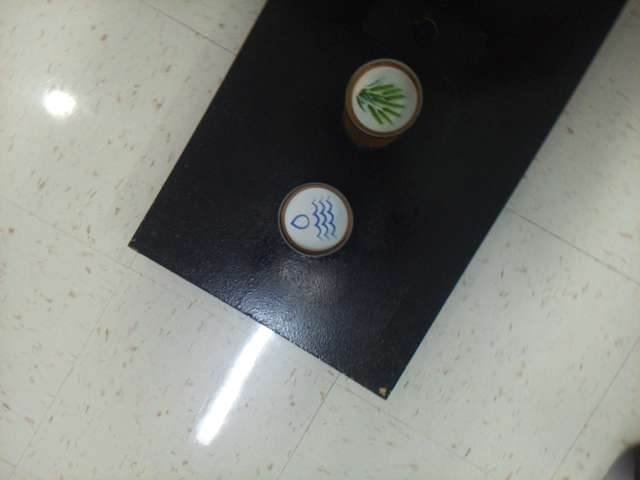water_barrel: (286, 189, 343, 249)
wheat_barrel: (348, 73, 413, 134)
